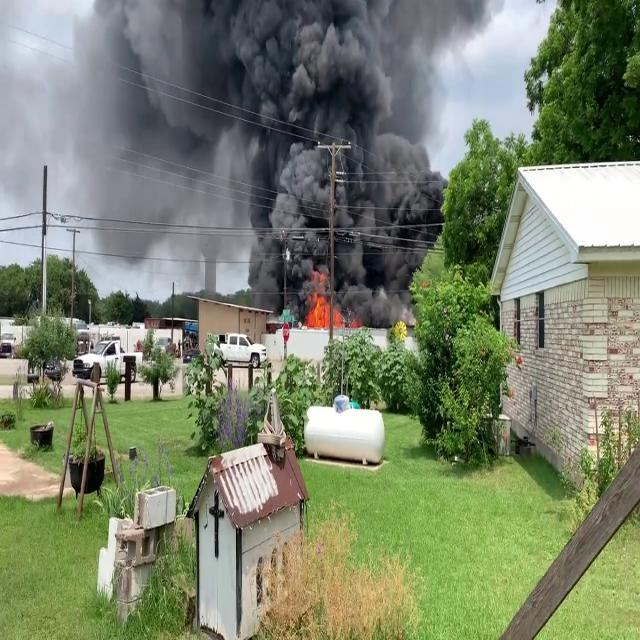Fire: (304, 282, 339, 328)
Smoke: (81, 0, 452, 314)
